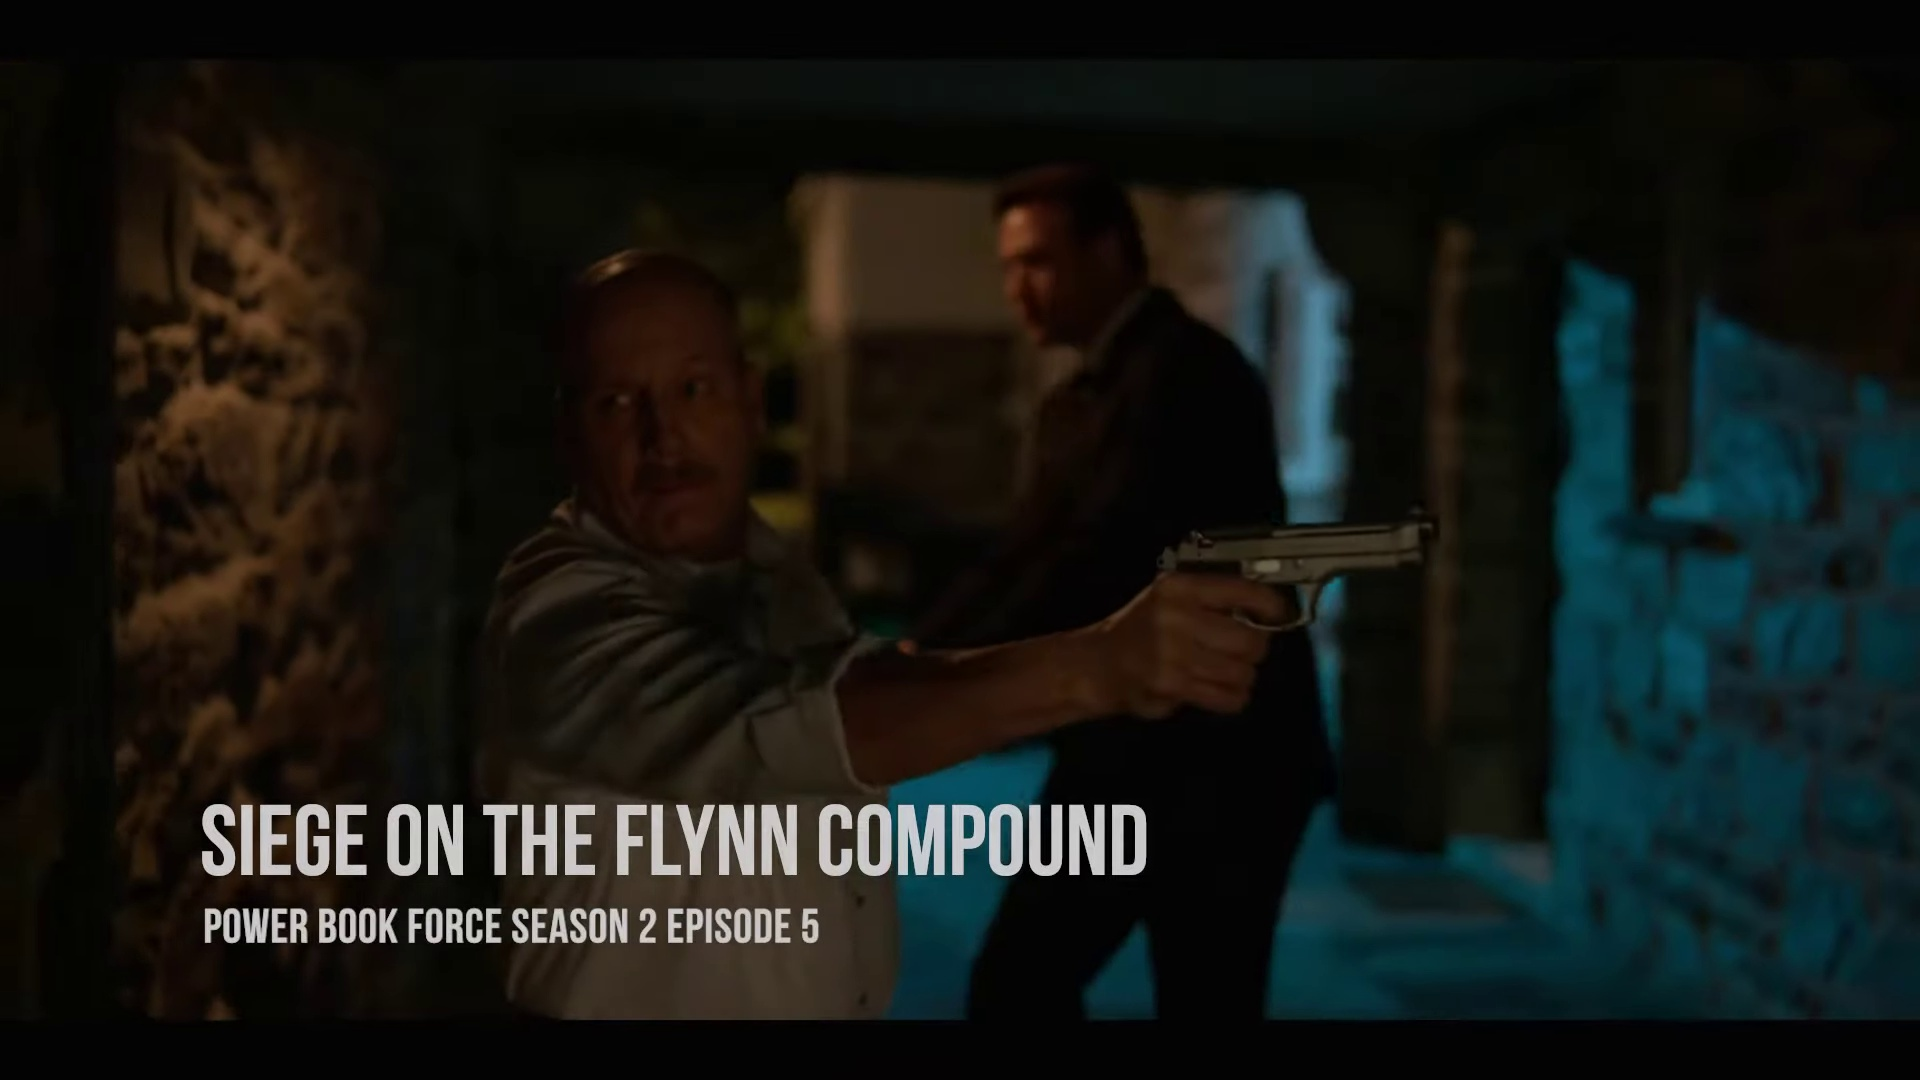gun: (1145, 498, 1444, 649)
p_w_gun: (454, 236, 1444, 1026)
p_wo_gun_not_carrying_normal_pose: (889, 160, 1337, 1025)
